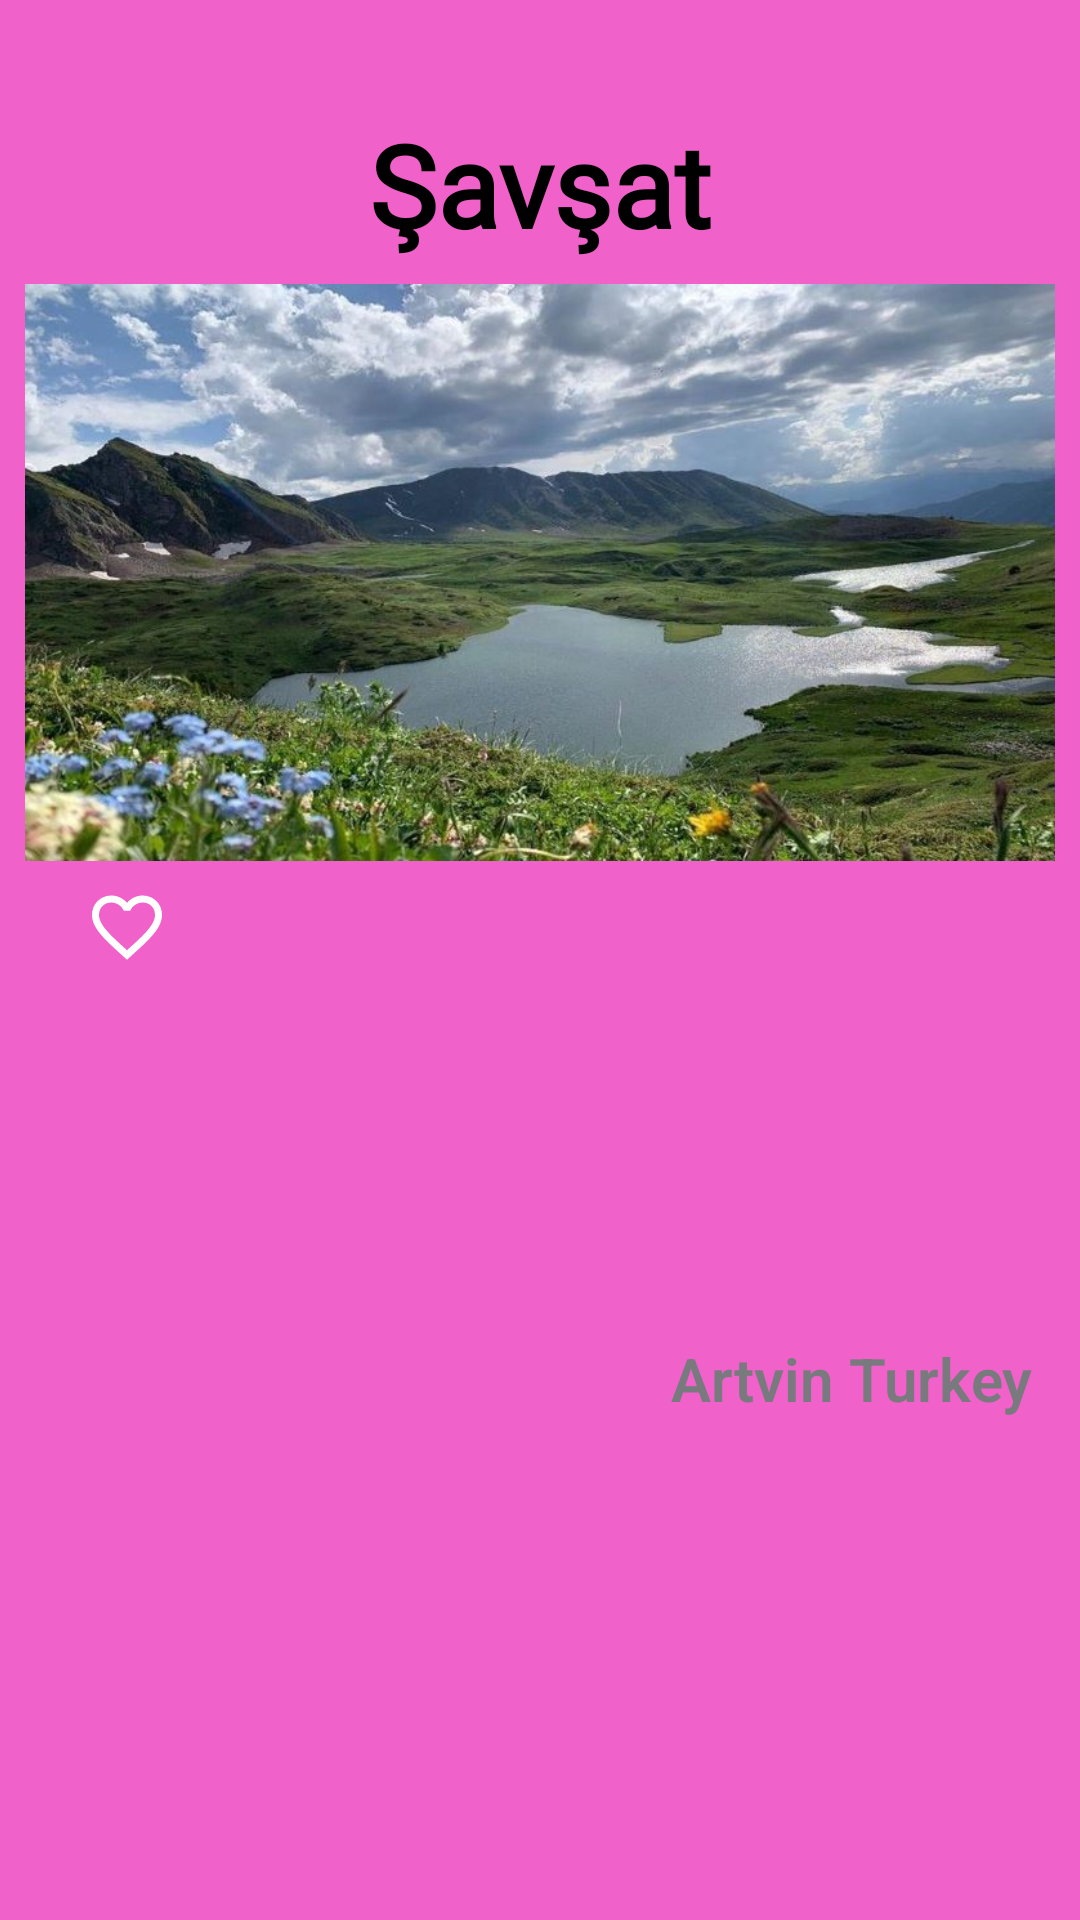

Point at icon controls on the screen. Image size 1080×1920, points as (x,y).
favorite false: (127,927)
